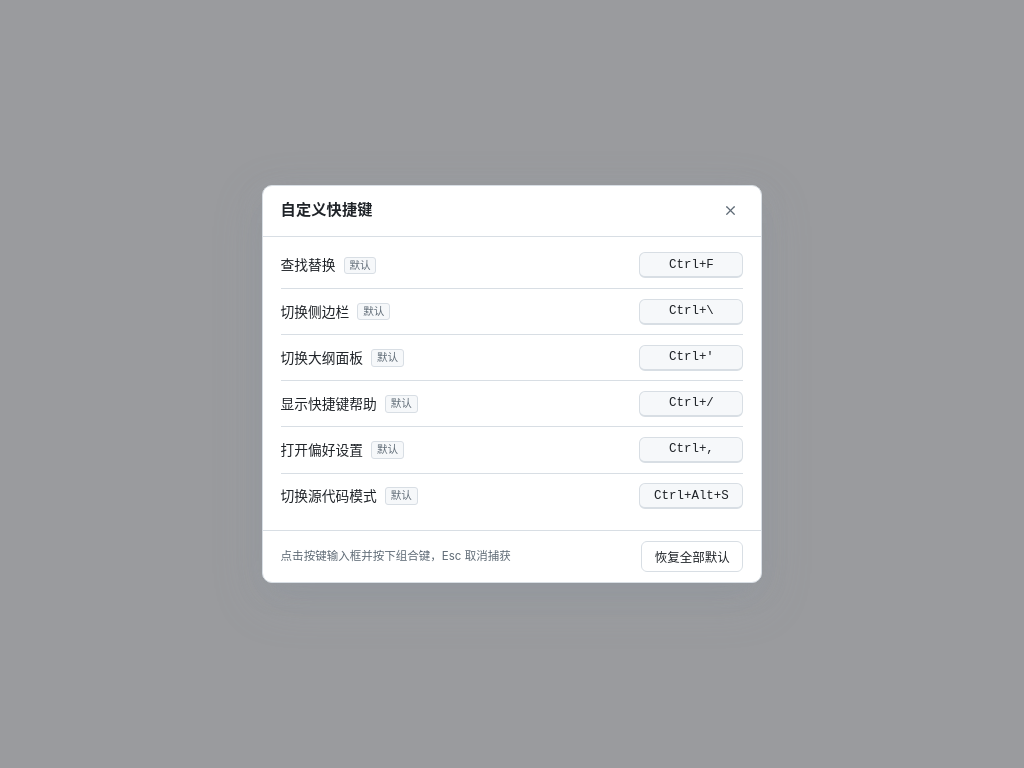
Test: ShortcutsCustomize reserved shortcuts › blocks user from binding to reserved shortcut mod+n and displays error
The width and height of the screenshot is (1024, 768).
// Click on the first shortcut button to start capturing
Click the button titled "点击修改" at (691, 265), box [639,252,743,278]
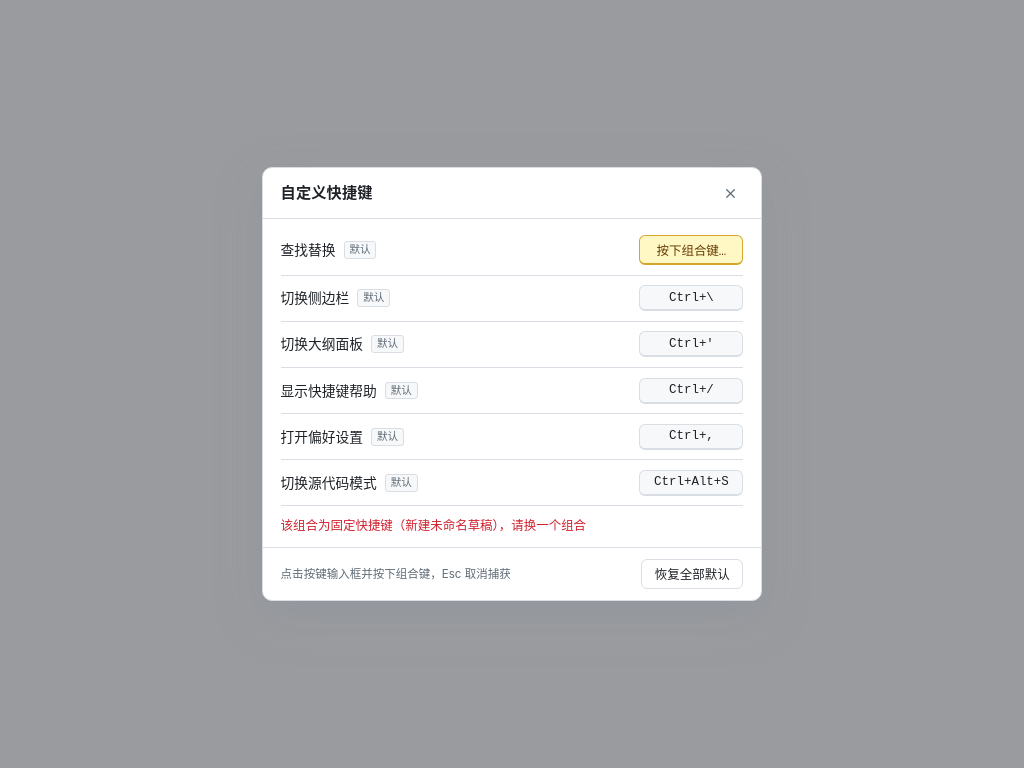
Result: the button "按下组合键…" is shown at [639,235,743,265]
Result: the text "该组合为固定快捷键（新建未命名草稿），请换一个组合" is shown at [281,518,586,533]
